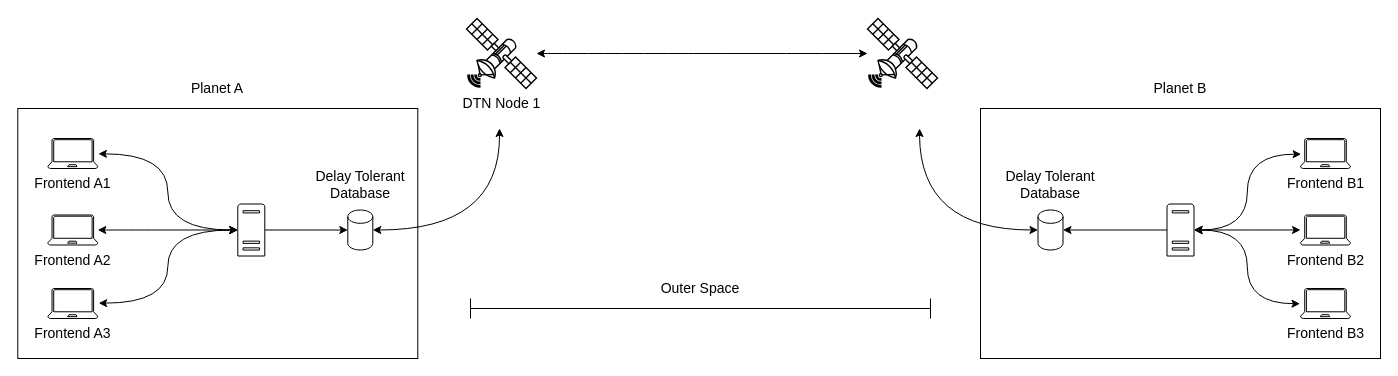
This 1398x376 diagram has some shape labels left out. The box of each missing label's shape, as (x1, y1, x2, y2) in pixels:
Backend 1: (237, 203, 265, 256)
Backend 2: (1166, 203, 1194, 256)
DTN Node 2: (866, 17, 938, 89)
